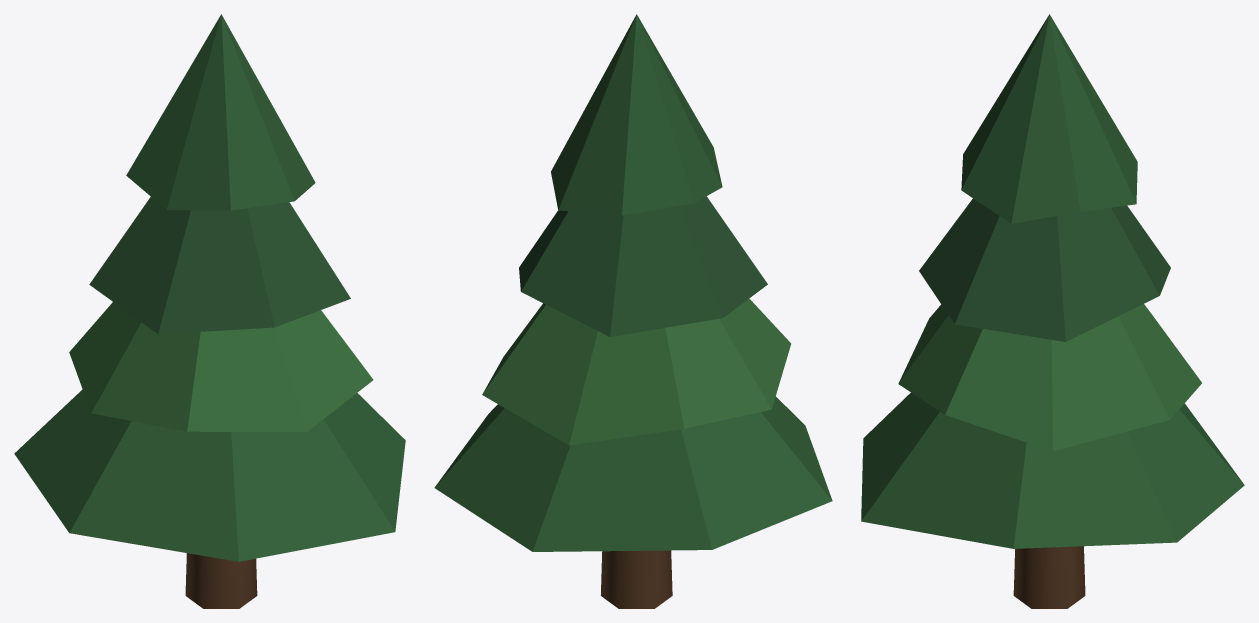
Rendered from tree_pine_2.glb.
The picture shows the model from 3 angles, left to right: view 1: azimuth 30°, elevation 25°; view 2: azimuth 150°, elevation 25°; view 3: azimuth 270°, elevation 25°; orthographic projection.
Visible parts, largest first — view 1: crown, trunk; view 2: crown, trunk; view 3: crown, trunk.
Boxes of the visible parts, left/top/right/bottom form: crown: left=14, top=14, right=405, bottom=561; trunk: left=185, top=553, right=257, bottom=608; crown: left=434, top=14, right=832, bottom=551; trunk: left=600, top=550, right=672, bottom=608; crown: left=861, top=14, right=1244, bottom=548; trunk: left=1013, top=546, right=1085, bottom=608.
Bounding box in the file's own units: 1.53 × 2.5 × 1.5.
